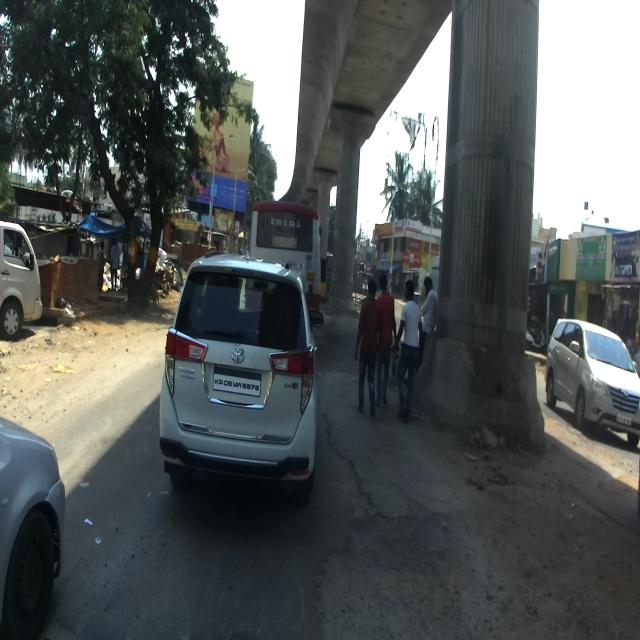car ahead at: (161, 250, 321, 500)
